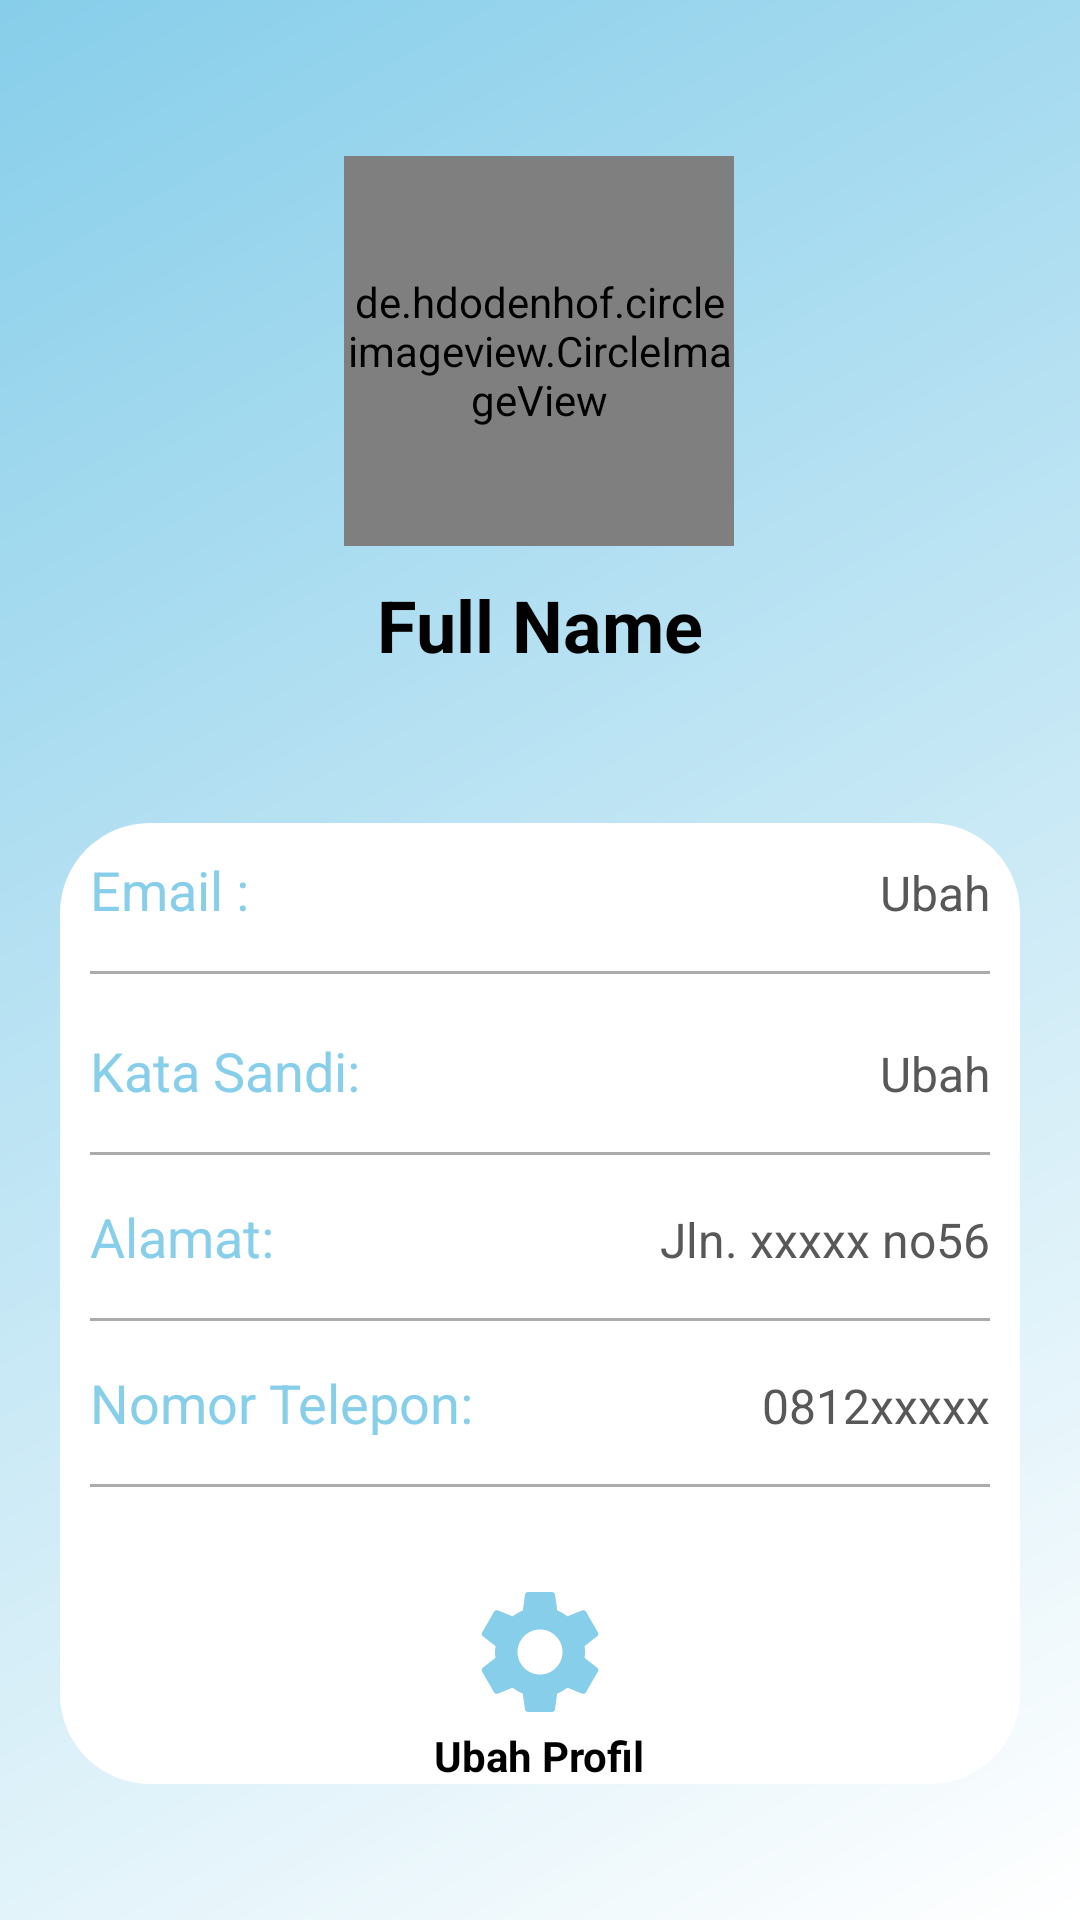

Where icons sit on this 1080 × 1920 app screen, as (x1, y1, x2, y2):
settings: (481, 1592, 599, 1712)
